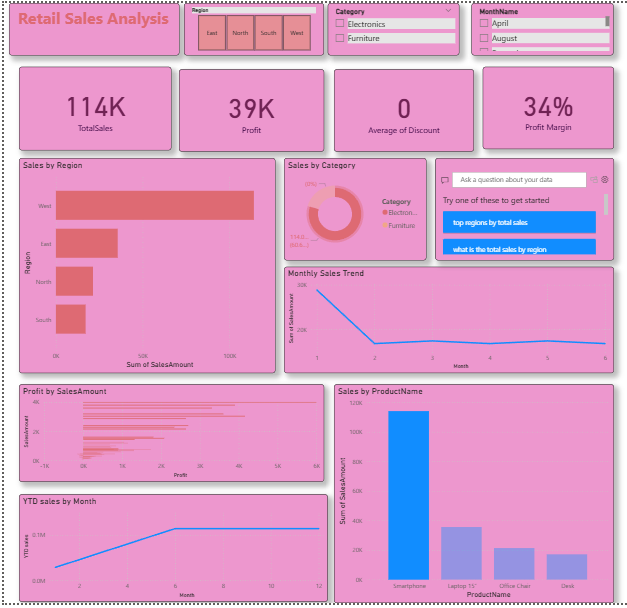

What the dashboard file says about the page in this screenshot:
{"tool":"powerbi","page":{"name":"Page 1","canvas":[1250,1200],"ordinal":0},"visuals":[{"type":"textbox","box":[9.9,0,340.6,104.6],"z":0},{"type":"card","fields":{"Values":["Sales.TotalSales"]},"box":[30,127.5,305,167.5],"z":1000},{"type":"card","fields":{"Values":["Sales.Profit"]},"box":[350,132.5,290,165],"z":2000},{"type":"card","fields":{"Values":["Avg(Sales.Discount)"]},"box":[660,132.5,280,165],"z":3000},{"type":"barChart","title":"Sales by Region ","fields":{"Category":["Sales.Region"],"Y":["Sum(Sales.SalesAmount)"]},"box":[30,310,512.5,430],"z":4000},{"type":"donutChart","title":"Sales by Category","fields":{"Y":["Sum(Sales.SalesAmount)"],"Category":["Products.Category"]},"box":[560,310,285,205],"z":5000},{"type":"lineChart","title":"Monthly Sales Trend","fields":{"Category":["Dates.Month"],"Y":["Sum(Sales.SalesAmount)"]},"box":[560,527.5,660,212.5],"z":6000},{"type":"lineChart","fields":{"Category":["Dates.Month"],"Y":["Sales.YTD sales"]},"box":[30,982.5,617.5,215],"z":7000},{"type":"columnChart","title":" Sales by ProductName","fields":{"Category":["Products.ProductName"],"Y":["Sum(Sales.SalesAmount)"]},"box":[660,762.5,560,437.5],"z":8000},{"type":"card","fields":{"Values":["Sales.Profit Margin"]},"box":[957.5,127.5,262.5,165],"z":9000},{"type":"barChart","fields":{"Category":["Sales.SalesAmount"],"Y":["Sales.Profit"]},"box":[30,762.5,610,195],"z":10000},{"type":"slicer","fields":{"Values":["Sales.Region"]},"box":[360.3,0,279.8,104.6],"z":11000},{"type":"slicer","fields":{"Values":["Products.Category"]},"box":[647.2,0,262.8,104.6],"z":12000},{"type":"slicer","fields":{"Values":["Dates.MonthName"]},"box":[935.5,0,284,104.6],"z":13000},{"type":"qnaVisual","box":[862.5,310,357.5,205],"z":13001}]}

Visuals, with their boxes in screenshot pixels (x1, y1, x2, y2), scaled from the page's 1250x1200 canvas onto the 627x608 screenshot:
textbox: select_region(5, 0, 176, 53)
card - Sales.TotalSales: select_region(15, 65, 168, 149)
card - Sales.Profit: select_region(176, 67, 321, 151)
card - Avg(Sales.Discount): select_region(331, 67, 472, 151)
"Sales by Region " barChart: select_region(15, 157, 272, 375)
"Sales by Category" donutChart: select_region(281, 157, 424, 261)
"Monthly Sales Trend" lineChart: select_region(281, 267, 612, 375)
lineChart - Dates.Month x Sales.YTD sales: select_region(15, 498, 325, 607)
" Sales by ProductName" columnChart: select_region(331, 386, 612, 607)
card - Sales.Profit Margin: select_region(480, 65, 612, 148)
barChart - Sales.SalesAmount x Sales.Profit: select_region(15, 386, 321, 485)
slicer - Sales.Region: select_region(181, 0, 321, 53)
slicer - Products.Category: select_region(325, 0, 456, 53)
slicer - Dates.MonthName: select_region(469, 0, 612, 53)
qnaVisual: select_region(433, 157, 612, 261)
